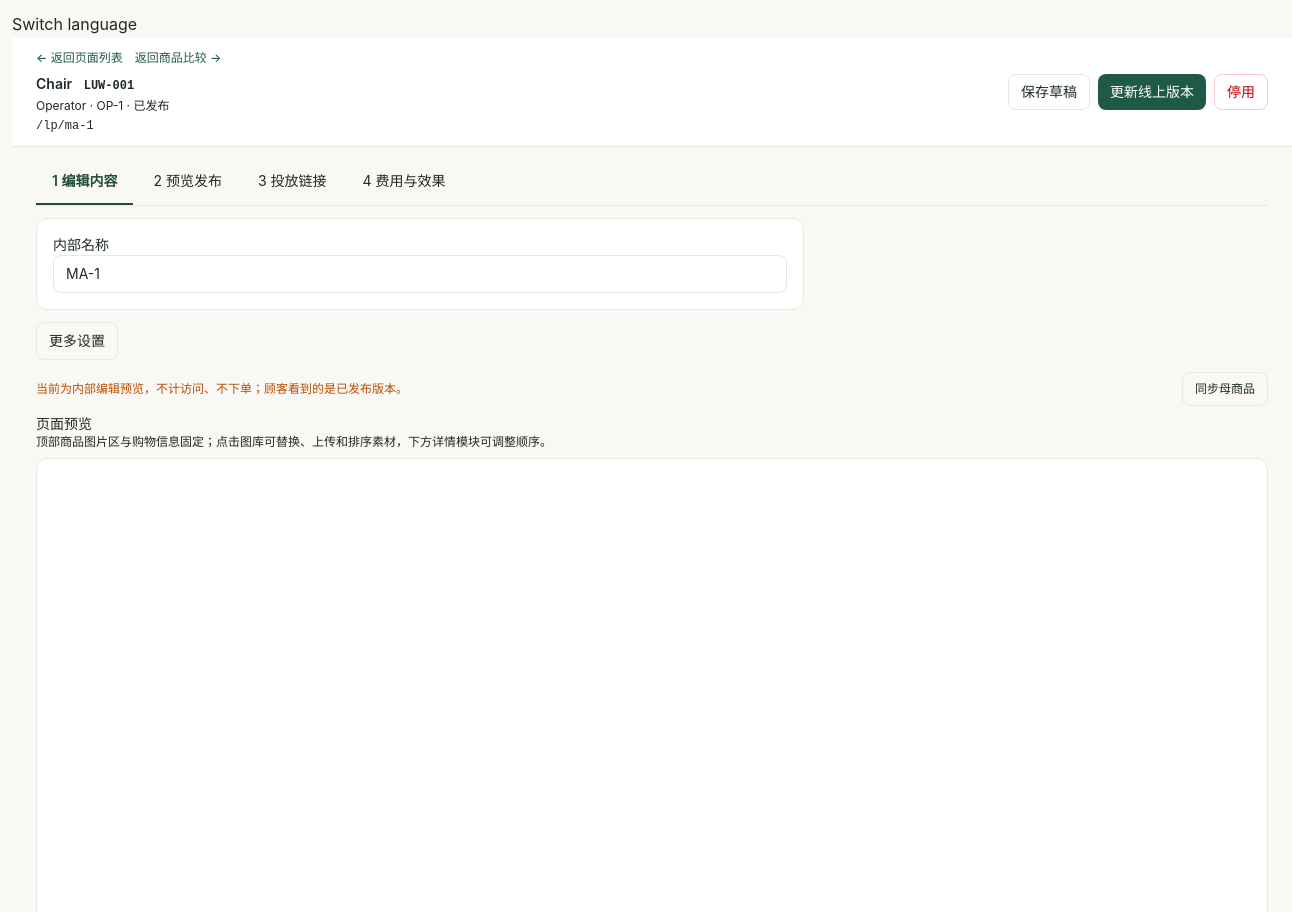
marketing page editing › saves names and Manila wall-clock dates as draft content without publishing
Expected: the text "LUW-001" is shown, left=84, top=79, right=134, bottom=93
Click the button "更多设置" at (77, 341), box left=36, top=322, right=118, bottom=360
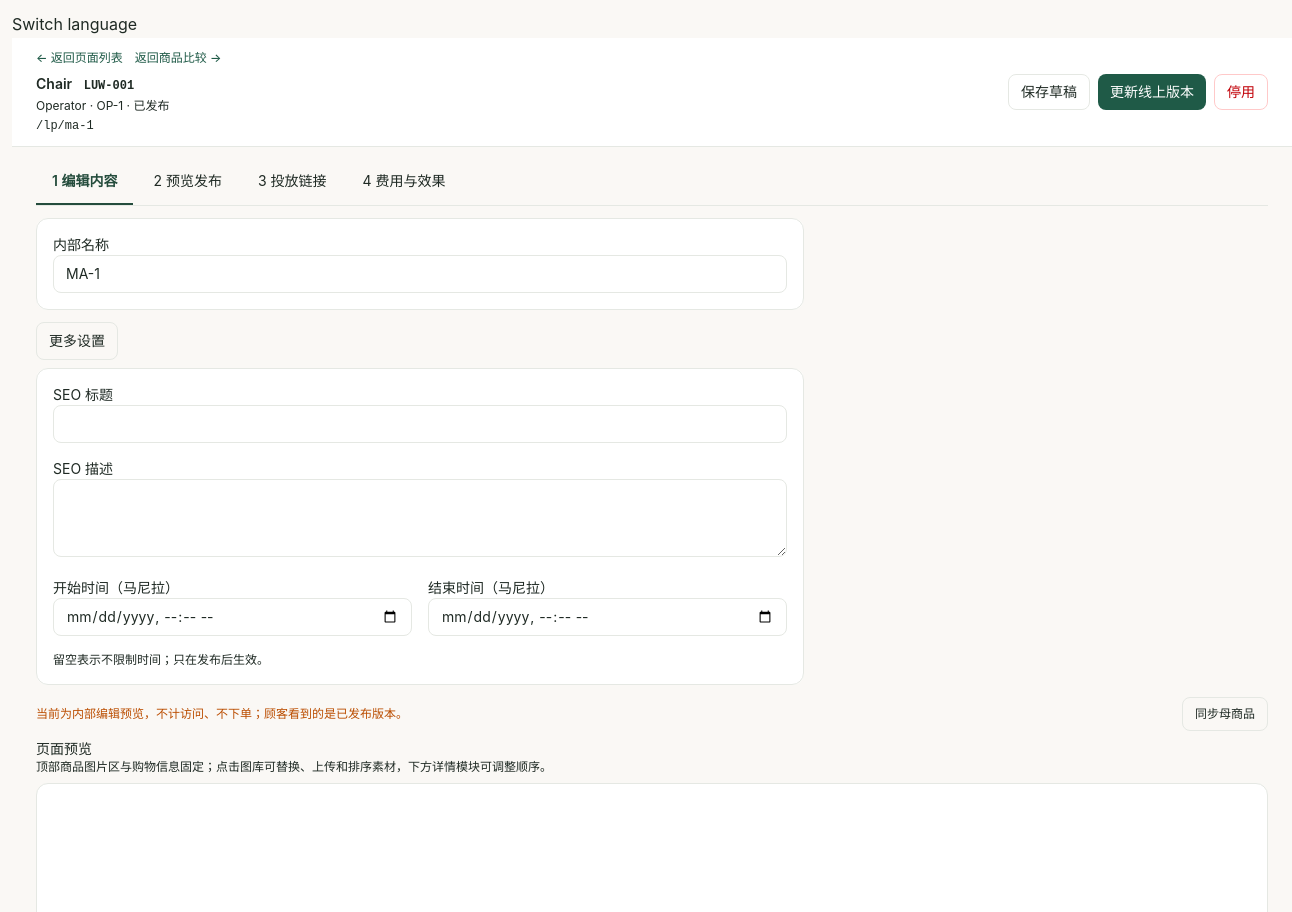
Replace the text in the field labelled "内部名称" with "Scheduled campaign" at (420, 274), box left=53, top=255, right=787, bottom=293
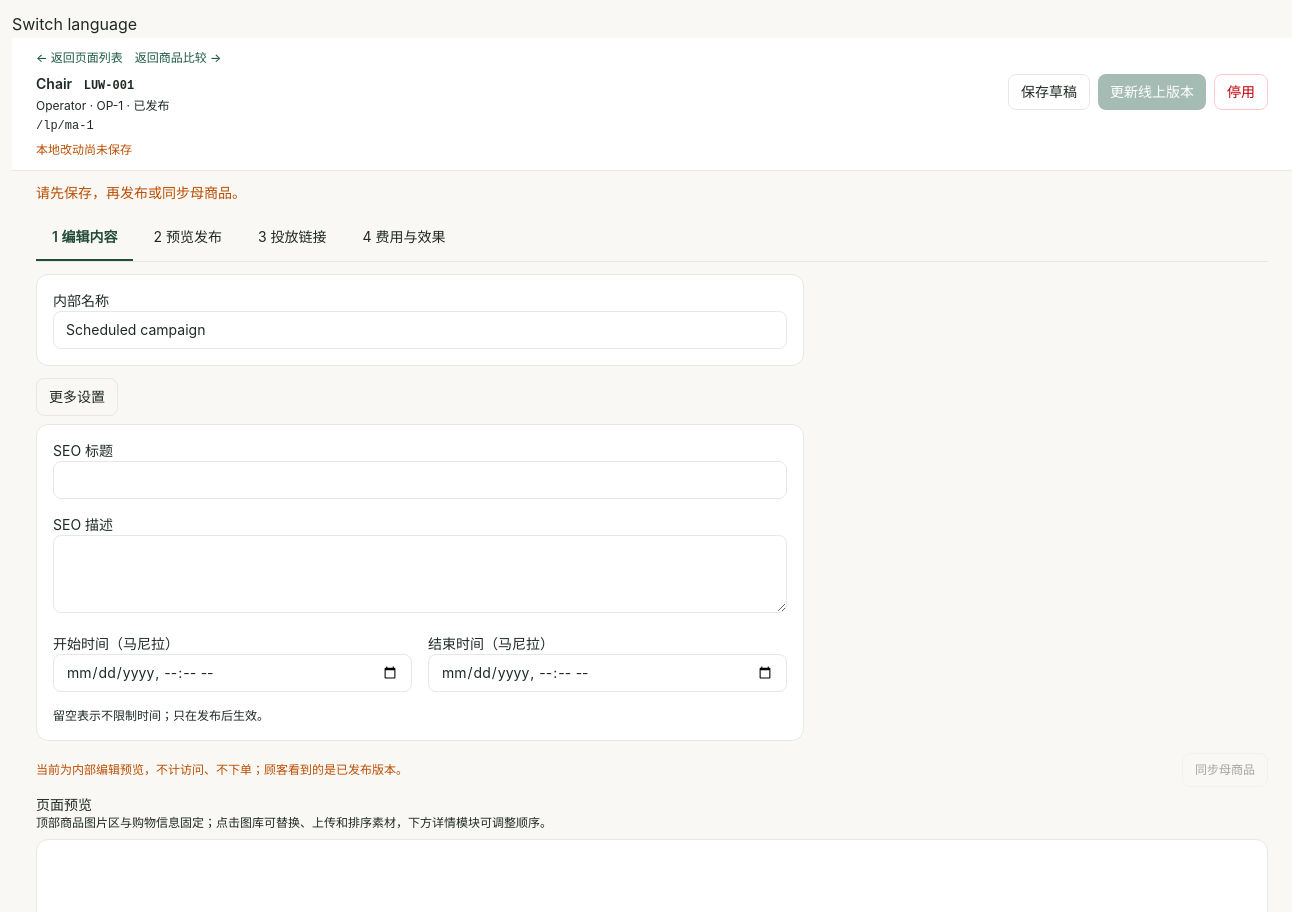
Type "2026-10-15T09:00" into the field labelled "开始时间（马尼拉）" at (232, 673), box left=53, top=654, right=412, bottom=692
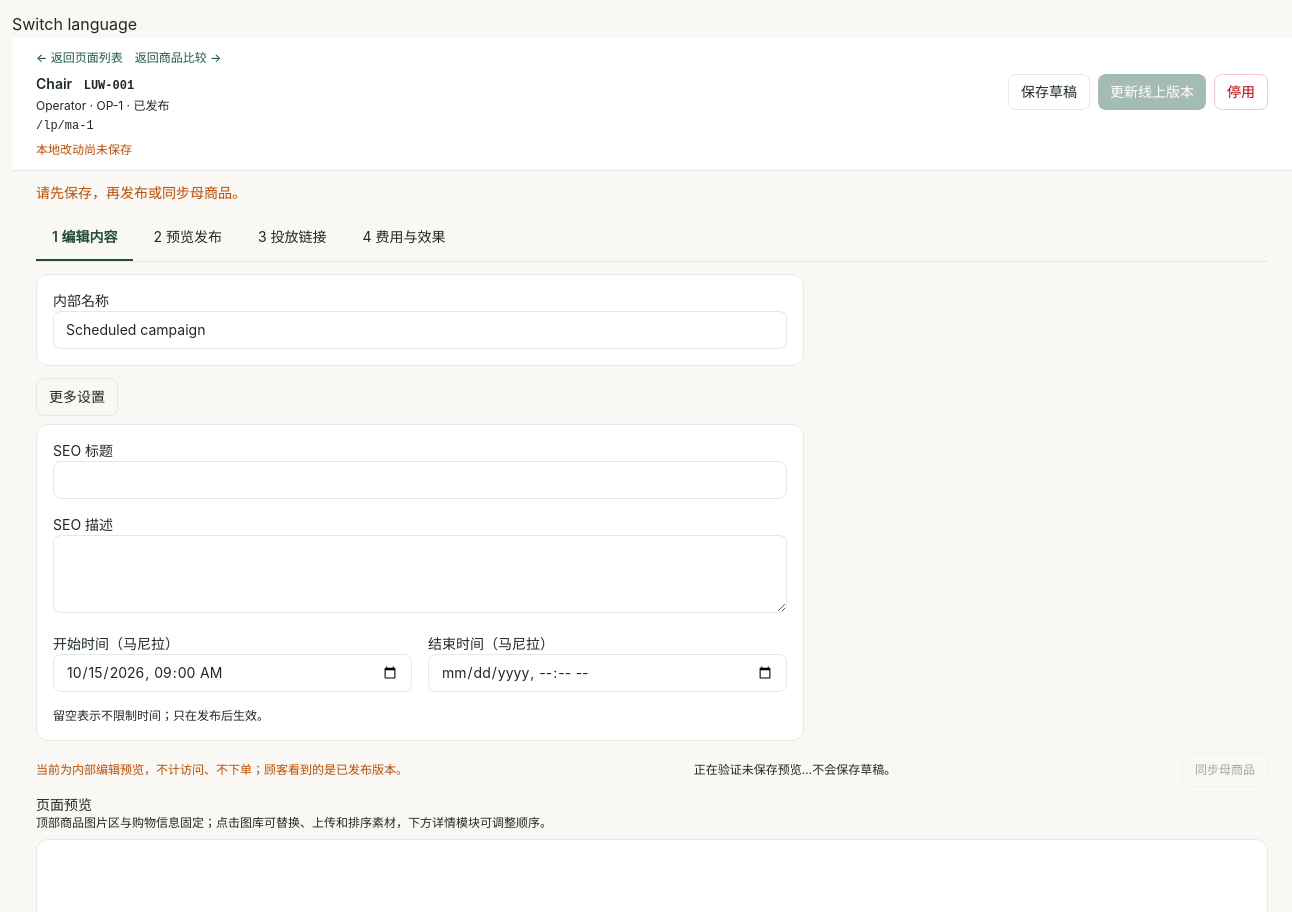
Click the button "保存草稿" at (1049, 92), box left=1008, top=74, right=1090, bottom=110
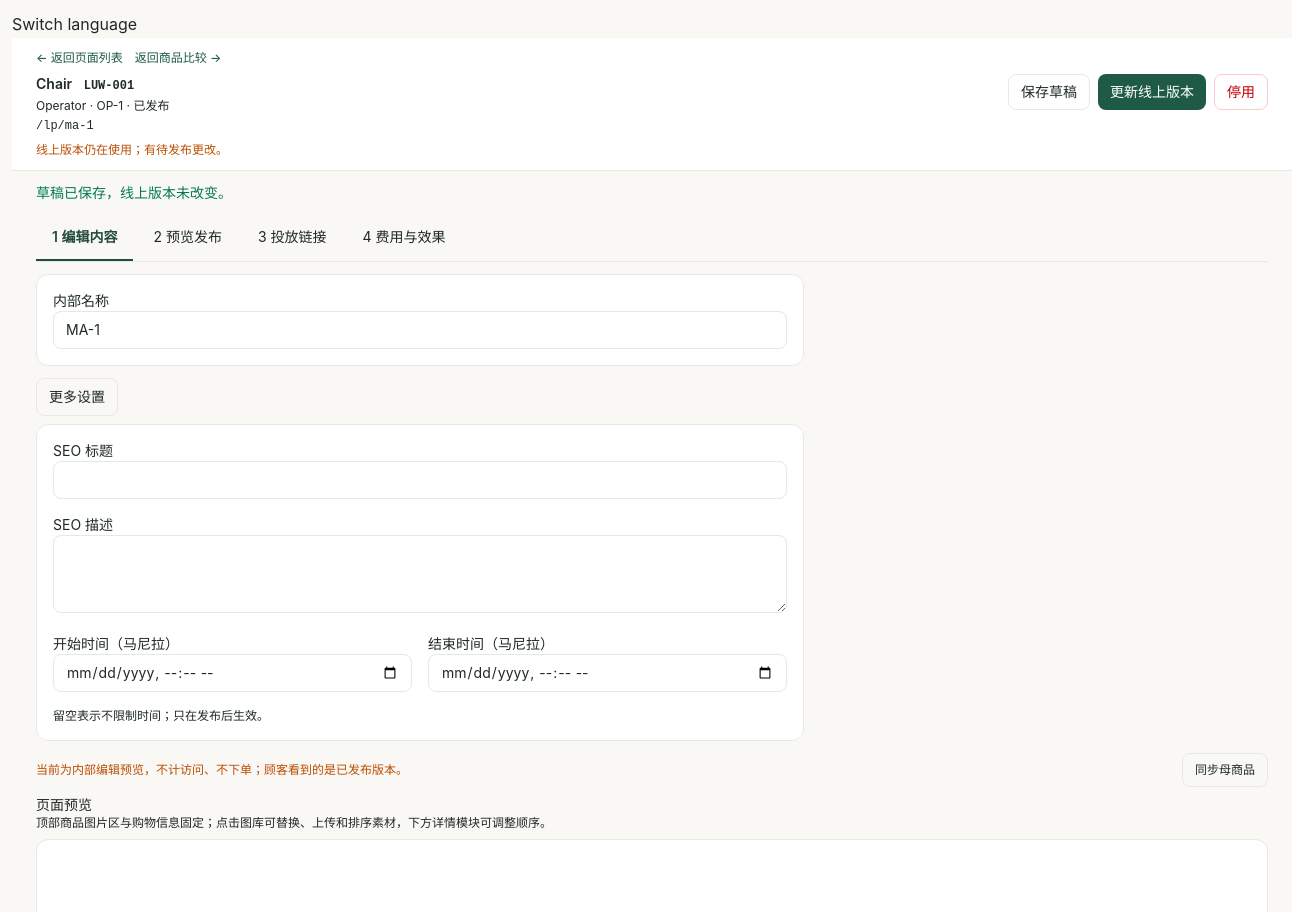
Expected: the text "线上版本仍在使用；有待发布更改。" is shown, left=36, top=142, right=228, bottom=157
